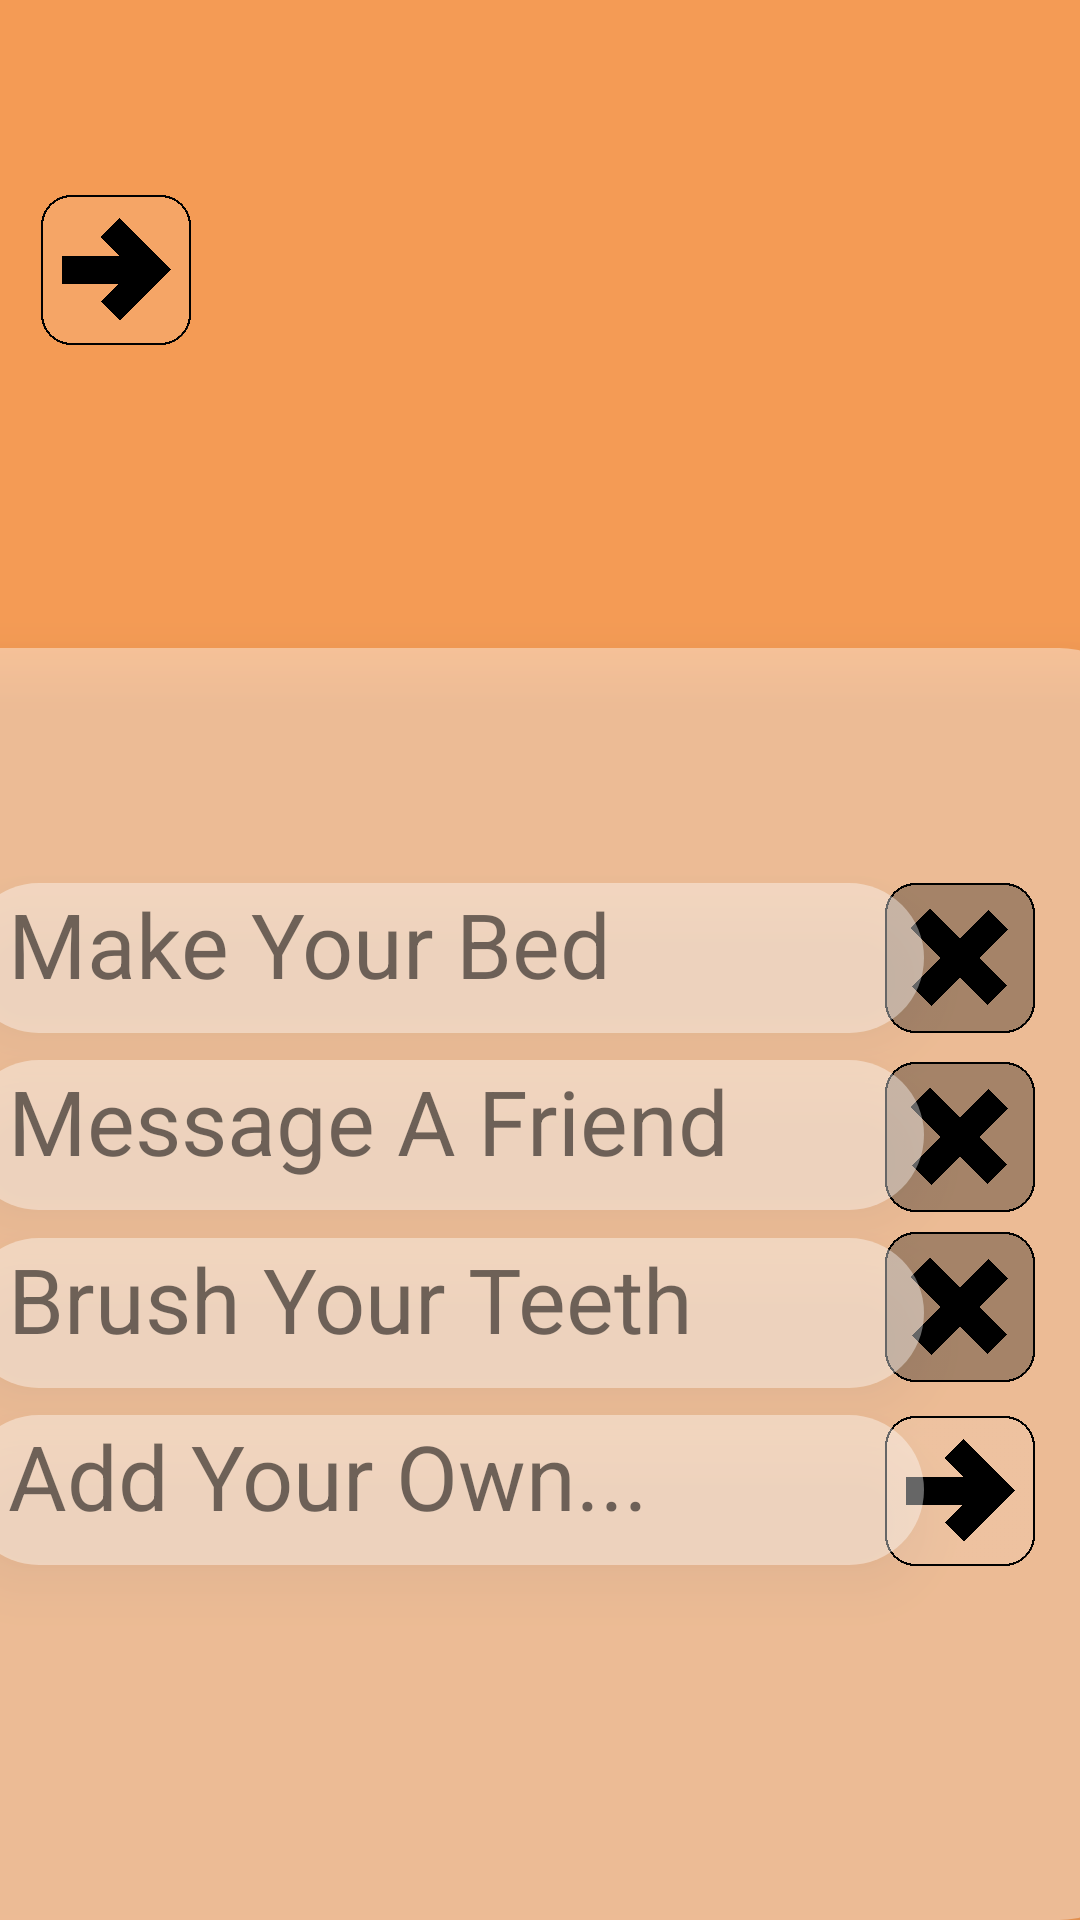

Locate icon controls on the screen. Image size 1080x1920, boxes as (x1, y1, x2, y2).
cross: (885, 883, 1035, 1033), (885, 1062, 1035, 1212), (885, 1232, 1035, 1382)
